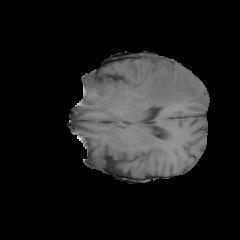glioma: (127, 59, 197, 108)
